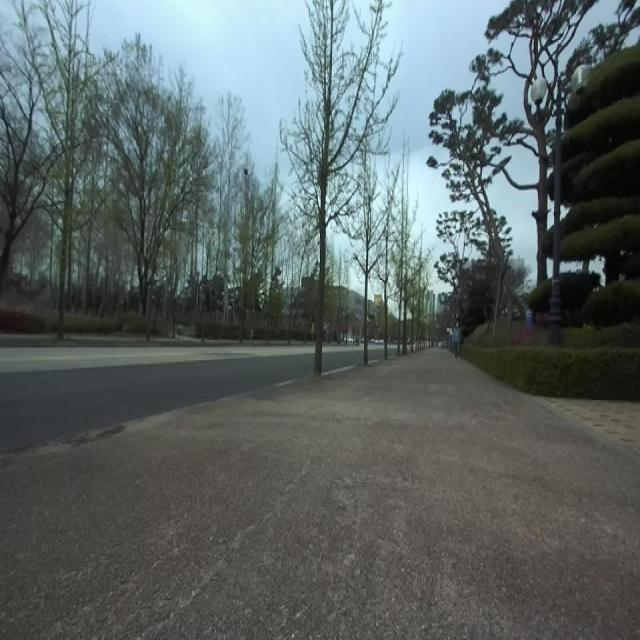sidewalk: (0, 350, 640, 640)
